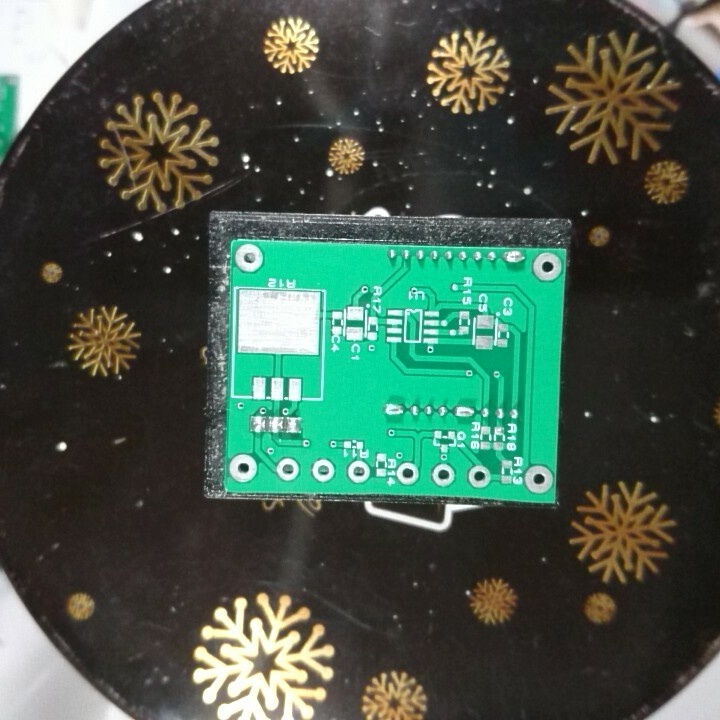F: (233, 240, 266, 275), (228, 452, 261, 487), (523, 463, 554, 498), (531, 252, 562, 284), (274, 455, 302, 483), (309, 456, 337, 484), (345, 458, 371, 488), (467, 463, 492, 492), (431, 462, 457, 489), (395, 462, 419, 489)
P: (502, 247, 528, 270), (450, 402, 477, 421), (382, 400, 407, 420)
